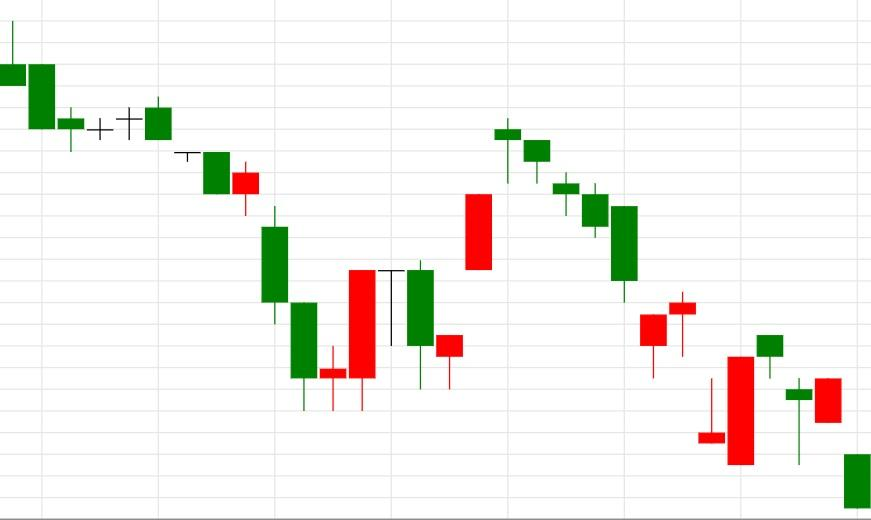evening_star_fall: (290, 261, 434, 410)
morning_star_rise: (144, 95, 378, 411)
